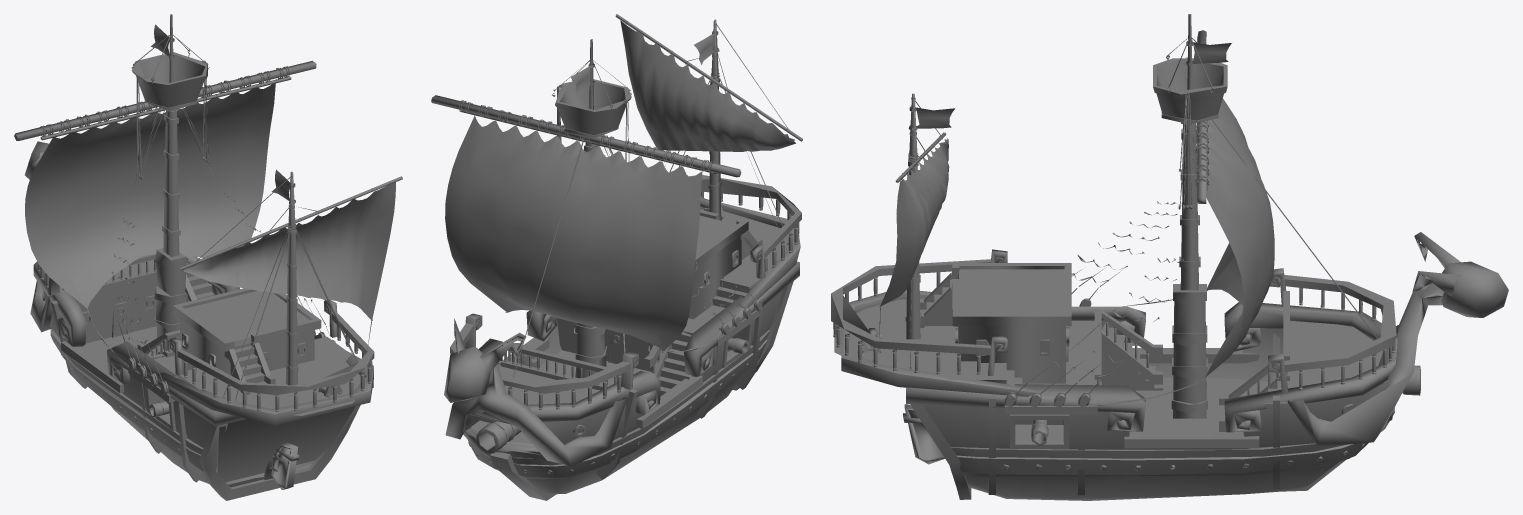
The model's file is going-merry-low.glb.
The picture shows the model from 3 angles, left to right: view 1: azimuth 30°, elevation 25°; view 2: azimuth 150°, elevation 25°; view 3: azimuth 270°, elevation 25°; orthographic projection. The views are drawn at different scales.
Visible parts, largest first — view 1: Plane056_02 - Default_0.003, Plane038_02 - Default_0.003, Plane045_02 - Default_0.003, Object016_02 - Default_0.003; view 2: Plane056_02 - Default_0.003, Plane045_02 - Default_0.003, Plane038_02 - Default_0.003, Object016_02 - Default_0.003; view 3: Plane038_02 - Default_0.003, Plane045_02 - Default_0.003, Plane056_02 - Default_0.003, Object016_02 - Default_0.003.
Boxes of the visible parts, left/top/right/bottom form: Plane056_02 - Default_0.003: left=25, top=24, right=395, bottom=401; Plane038_02 - Default_0.003: left=14, top=14, right=402, bottom=489; Plane045_02 - Default_0.003: left=25, top=141, right=374, bottom=500; Object016_02 - Default_0.003: left=50, top=329, right=342, bottom=470; Plane056_02 - Default_0.003: left=445, top=20, right=795, bottom=393; Plane045_02 - Default_0.003: left=444, top=175, right=801, bottom=500; Plane038_02 - Default_0.003: left=431, top=14, right=802, bottom=494; Object016_02 - Default_0.003: left=468, top=196, right=770, bottom=479; Plane038_02 - Default_0.003: left=834, top=14, right=1388, bottom=500; Plane045_02 - Default_0.003: left=831, top=232, right=1508, bottom=499; Plane056_02 - Default_0.003: left=872, top=37, right=1377, bottom=407; Object016_02 - Default_0.003: left=862, top=328, right=1420, bottom=476.
Bounding box in the file's own units: 19.74 × 26.38 × 33.76.
4 materials, 4 textured.
